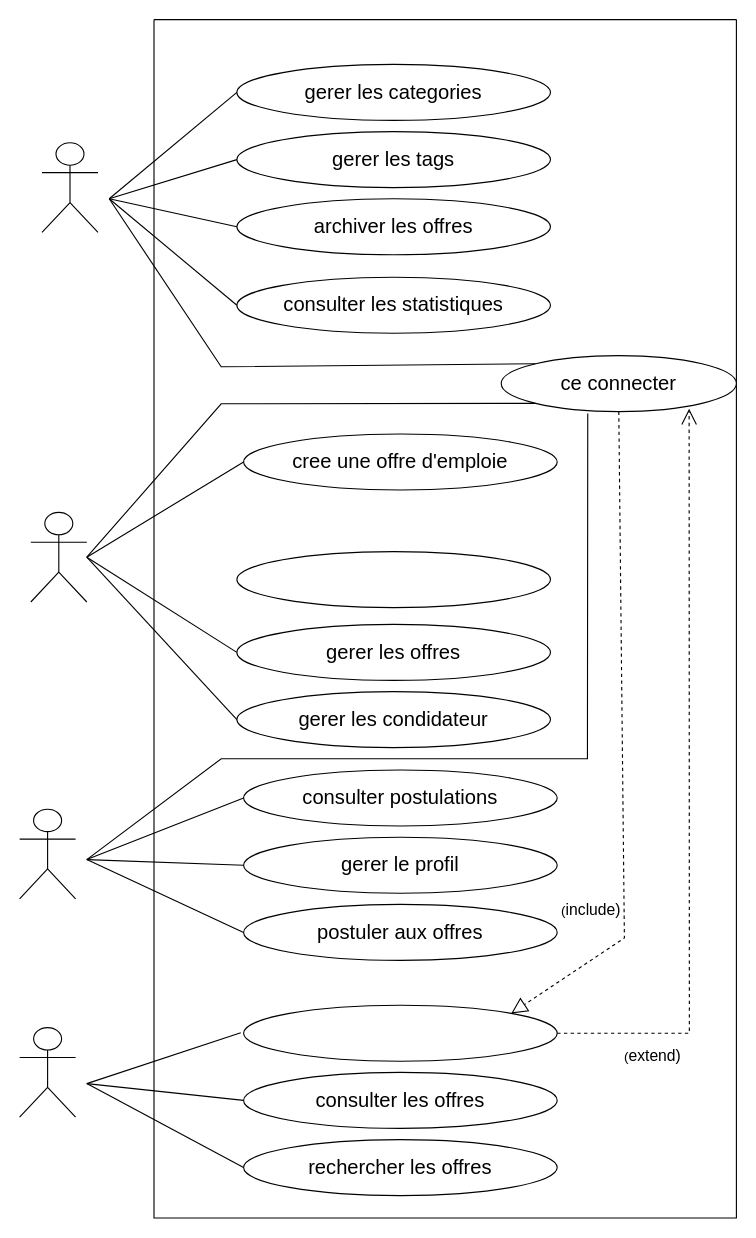
This 756x1238 diagram has some shape labels left out. The shapes that lost their labels are listed below. From the top down, each one's centre as x and y in pixels, then its label:
the point at 69,187: administrateur
the point at 58,556: recruteur
the point at 393,579: selectionner categories/tegs
the point at 47,853: utilisateur
the point at 399,1032: s'inscrire
the point at 47,1071: visiteur
